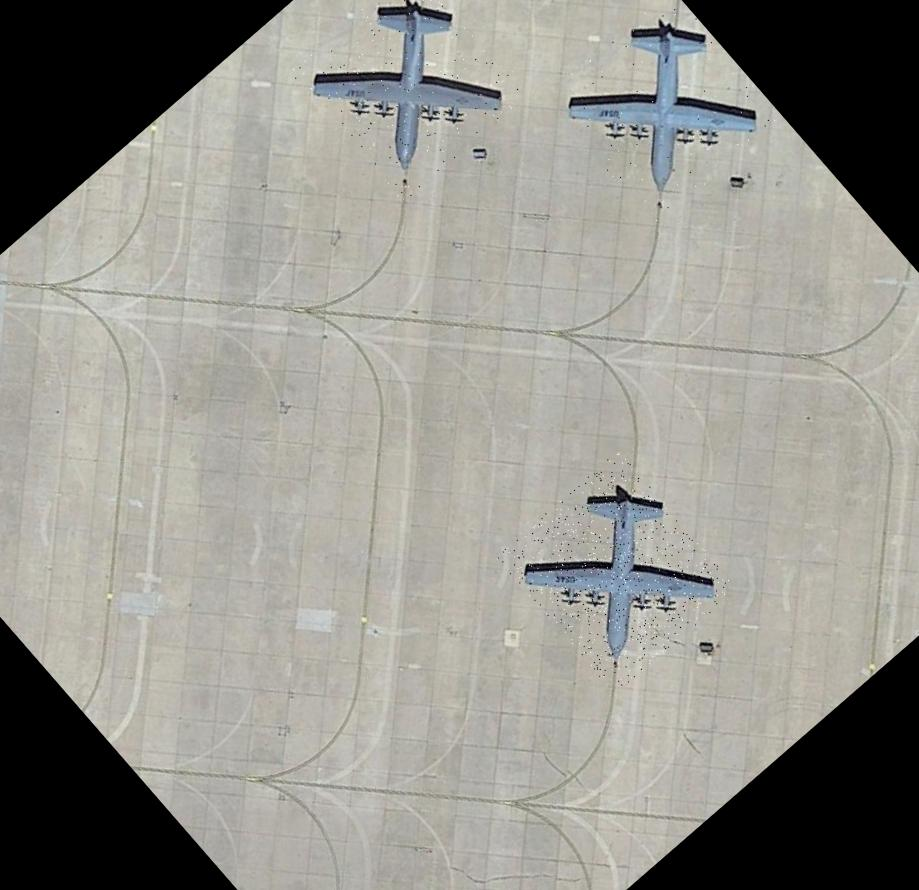A2: (496, 450, 739, 695), (542, 0, 783, 228), (289, 0, 526, 202)
